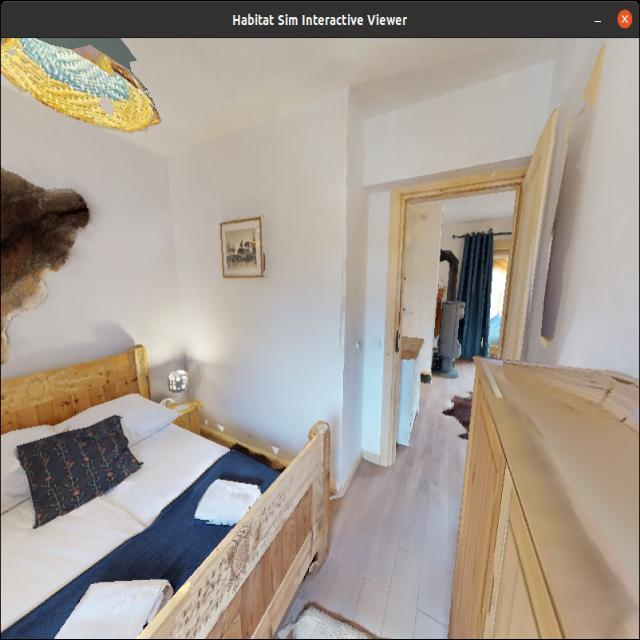bed: (0, 308, 350, 639)
door-frame: (376, 161, 528, 472)
